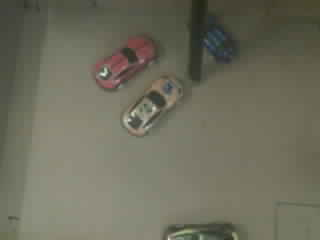Car: (122, 76, 181, 135), (96, 37, 154, 88), (203, 17, 235, 61), (169, 223, 238, 239)
